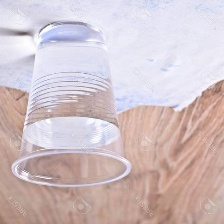glass: (8, 18, 135, 194)
